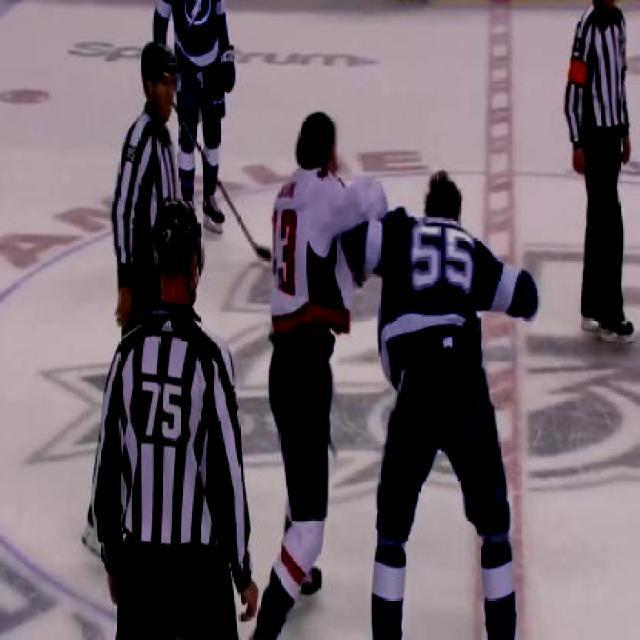fight: (255, 111, 536, 640)
non-fight: (91, 195, 251, 640), (564, 0, 638, 348), (108, 40, 186, 332)
